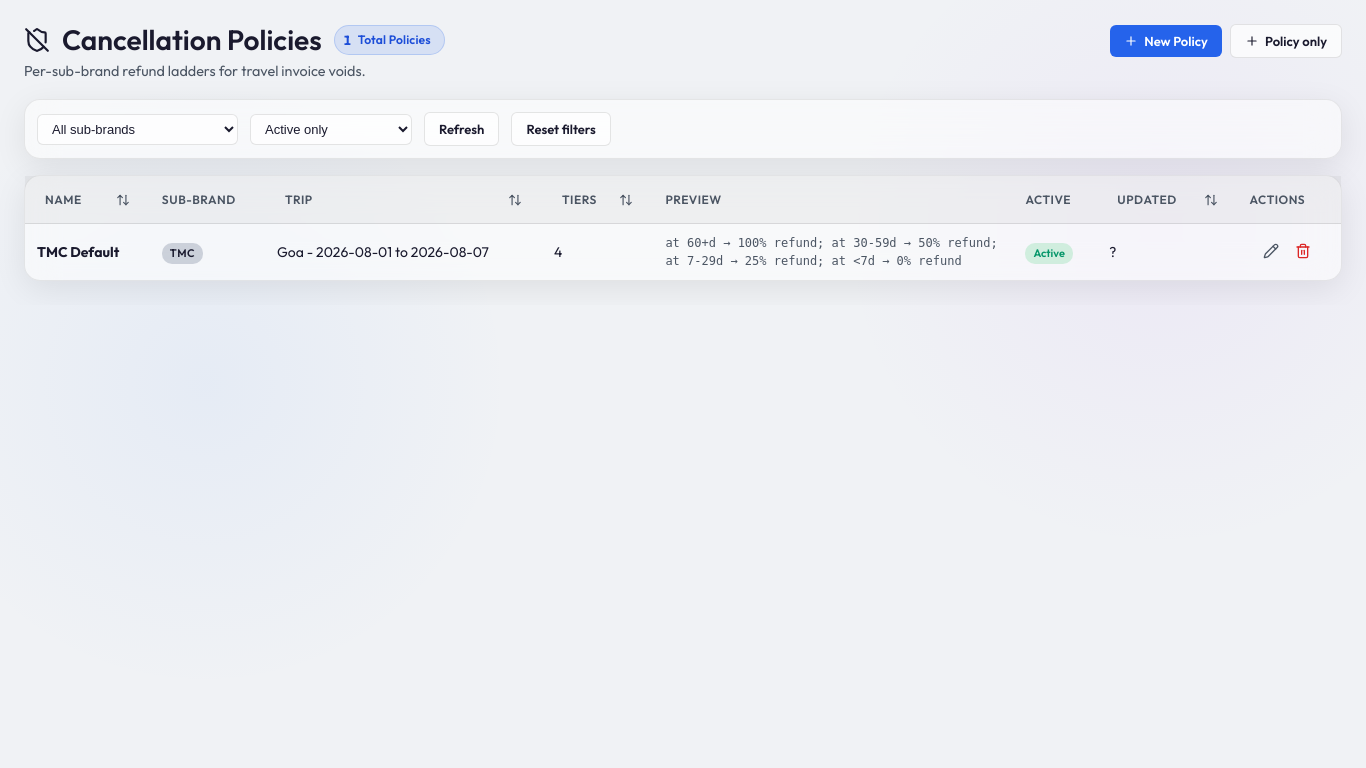
Scenario: CancellationPolicies trip selector › renders cleaner trip labels
This screenshot has width=1366, height=768.
expect the text "TMC Default" is shown: met, box [37, 243, 119, 261]
Click the button "New Policy". click: coordinates (1166, 41)
box: [1110, 25, 1222, 57]
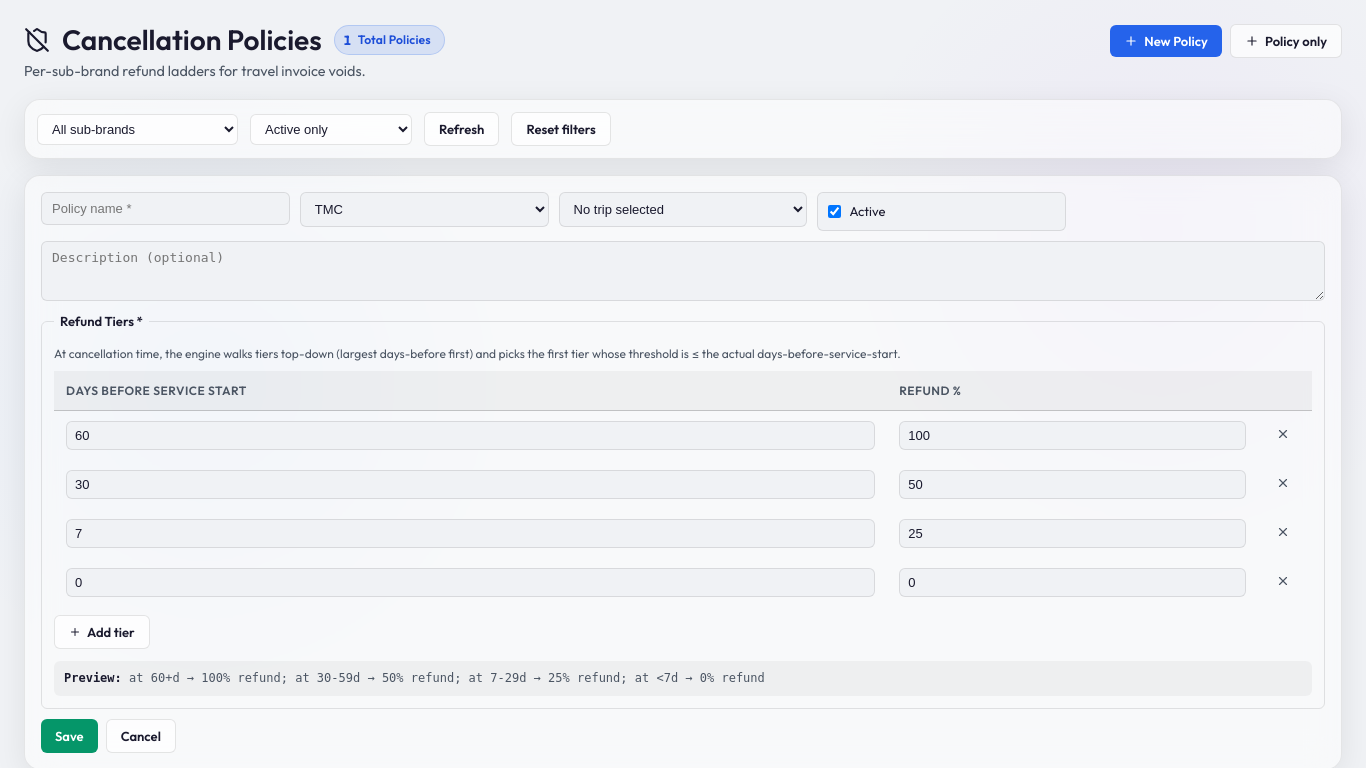
expect the dropdown named "Trip" is shown: met, box [559, 192, 807, 227]
